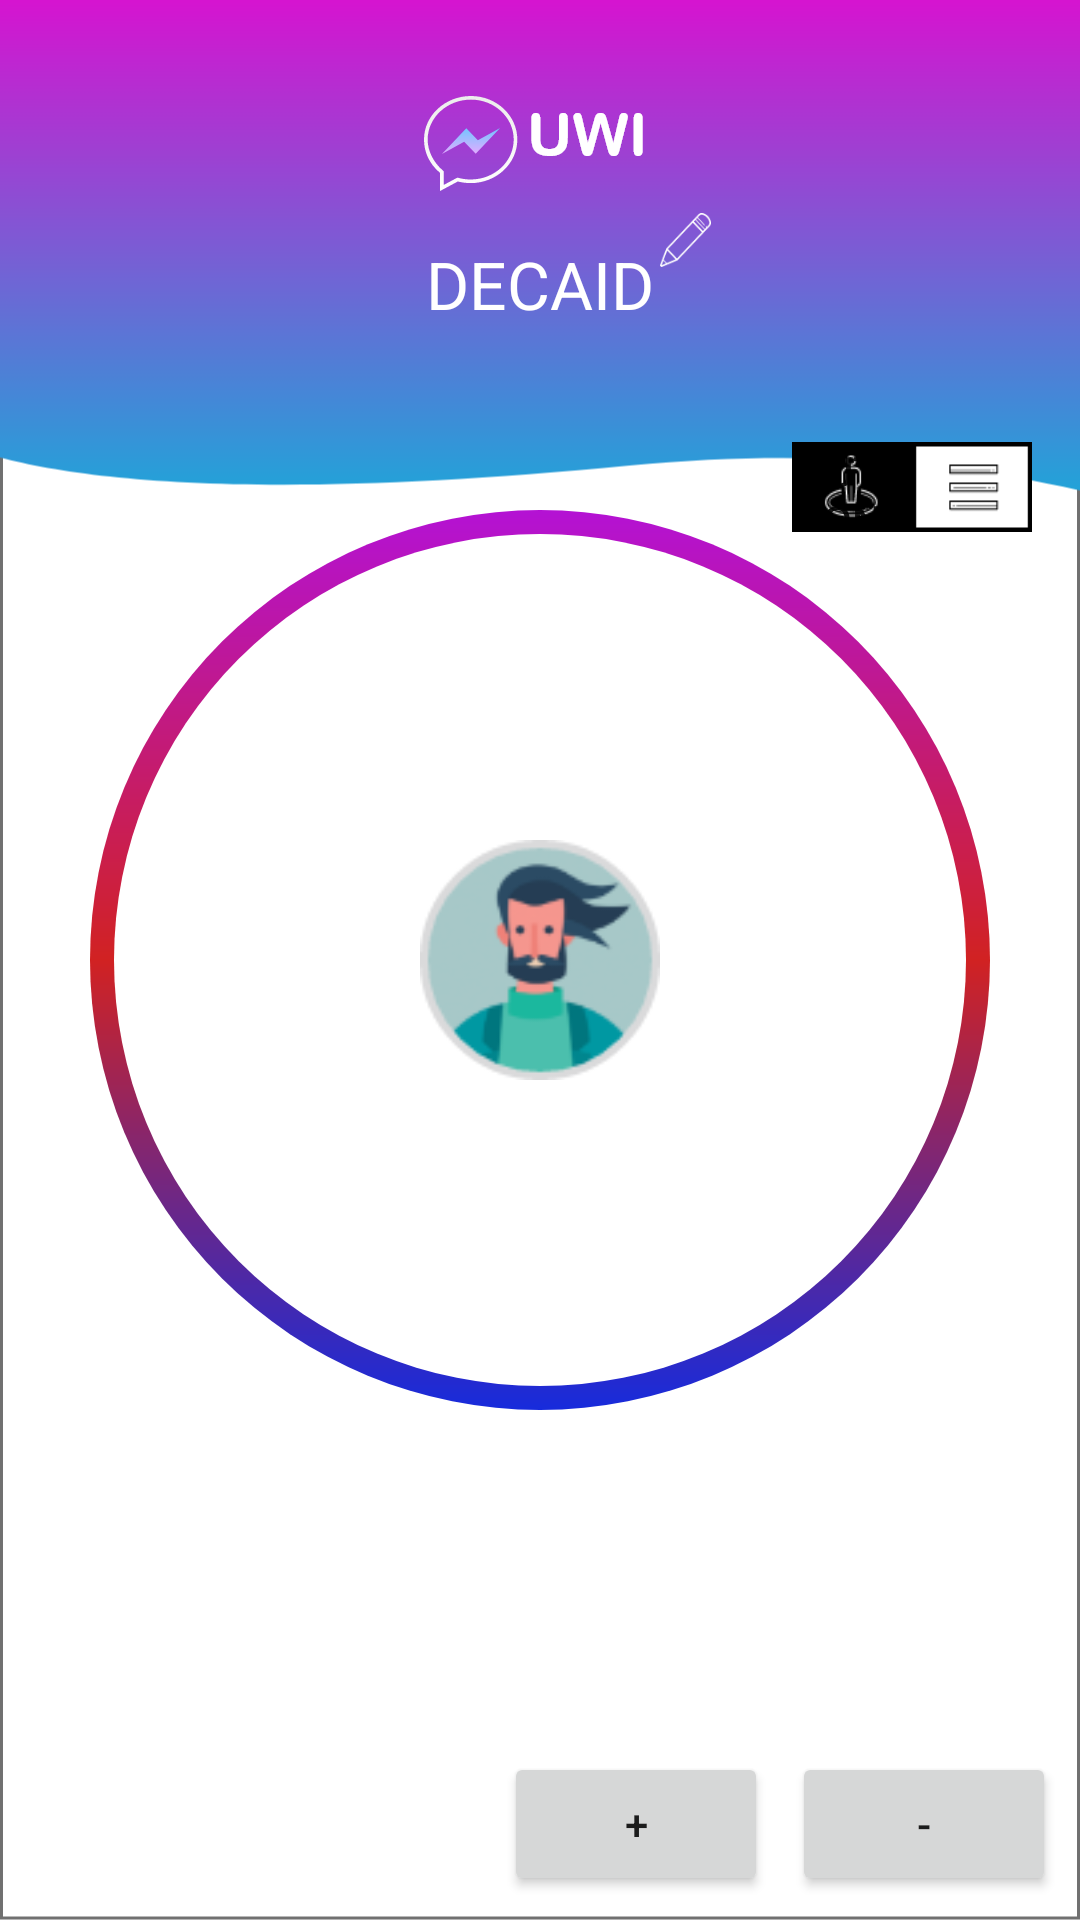

Named icons in this screenshot (1080×1920) and their centers, [x,y]:
edit: [685,240]
show list: [972,487]
